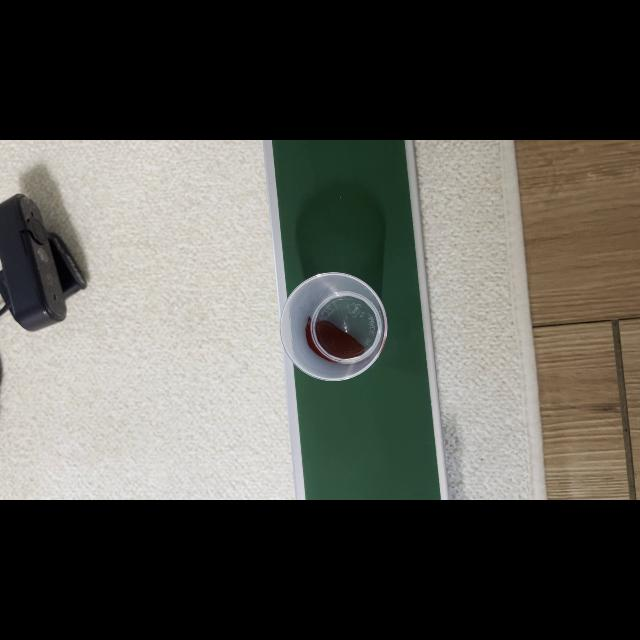dirty: (282, 272, 388, 378)
